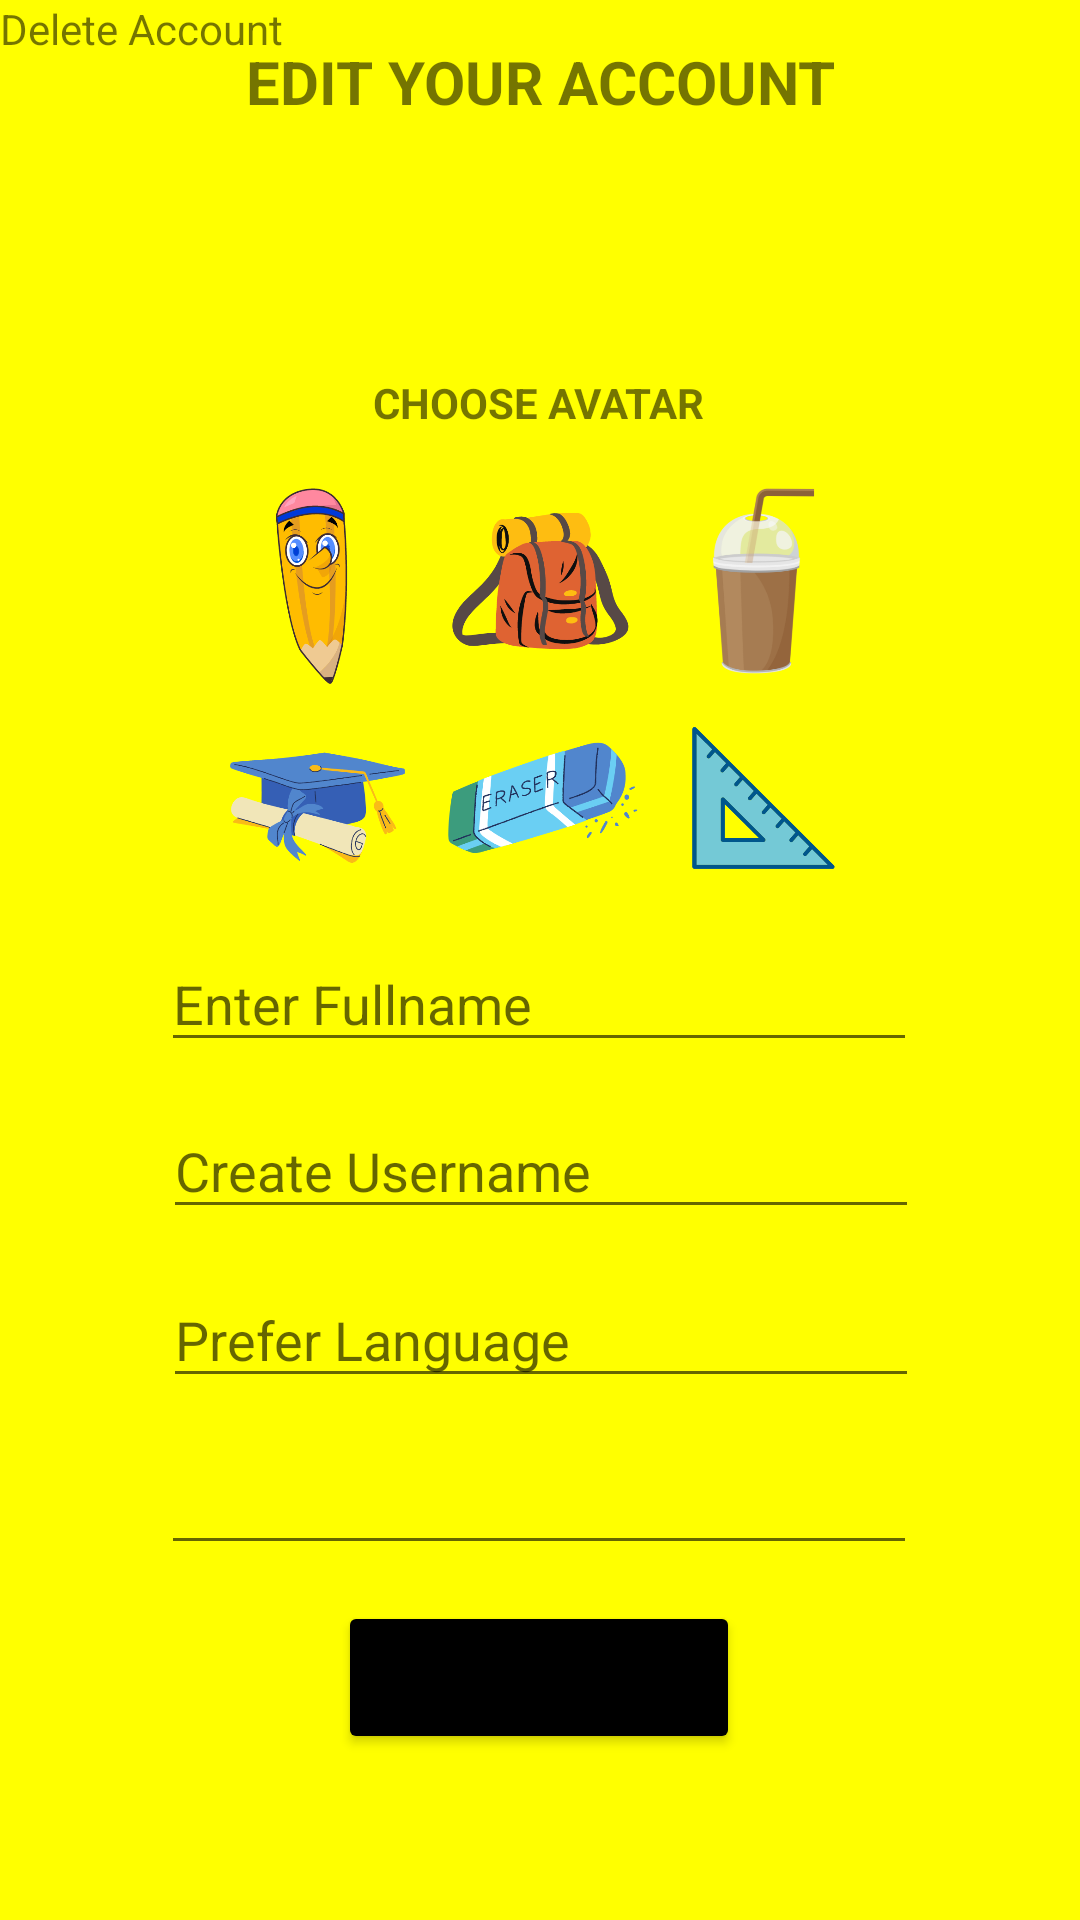

Point at icon controls on the screen. Image size 1080 x 1920, points as (x=x, y=y).
bag: (x=540, y=581)
hat: (x=317, y=807)
pen: (x=311, y=586)
ruler: (x=763, y=798)
